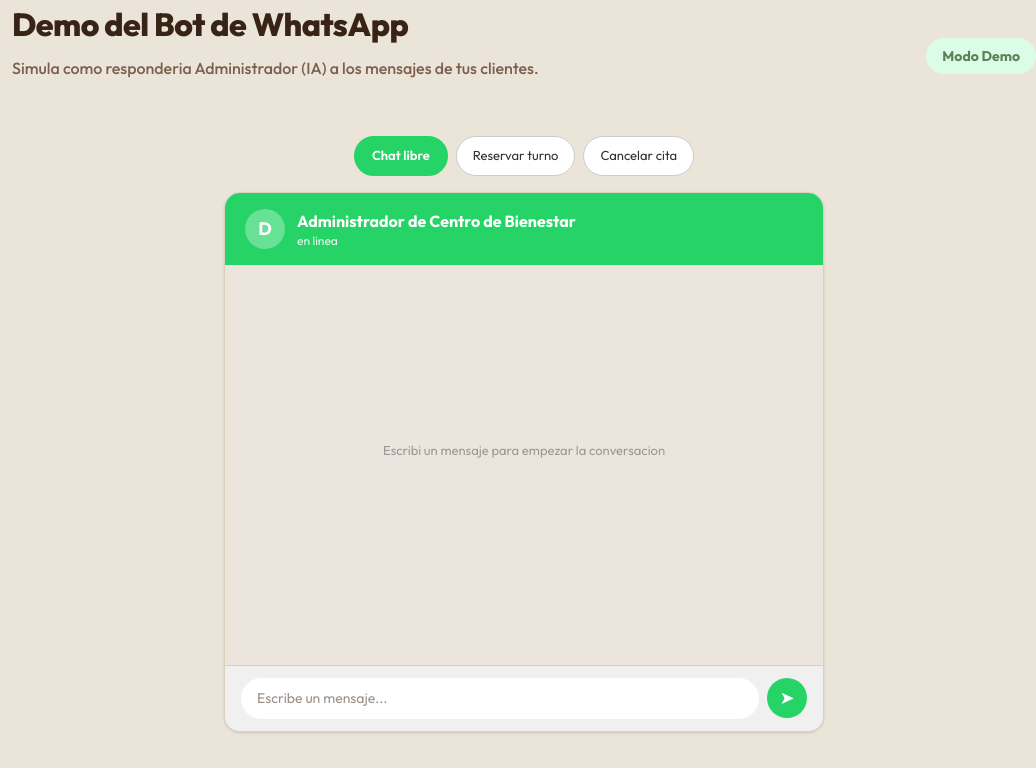
ChatDemo — escenarios de conversación › envía mensaje al presionar Enter
The width and height of the screenshot is (1036, 768).
Type "Quiero el viernes" into the field with placeholder "Escribe un mensaje...".
click(500, 698); type("Quiero el viernes")  # box [241,678,759,718]
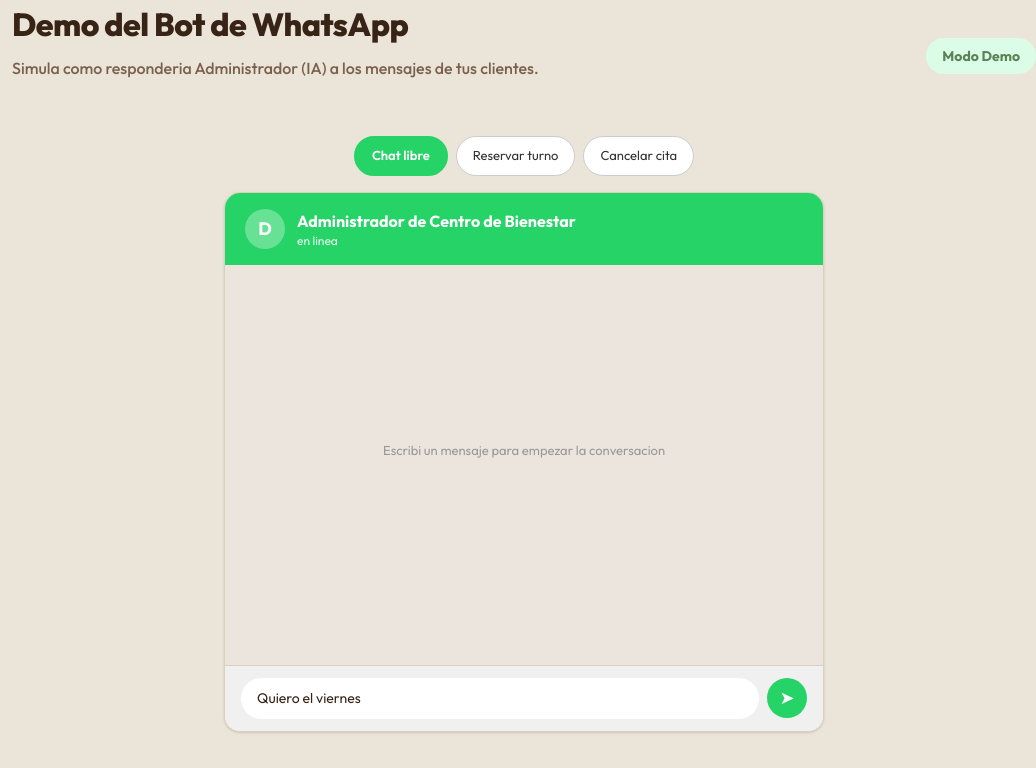
Press Enter in the field with placeholder "Escribe un mensaje...", box [241,678,759,718]
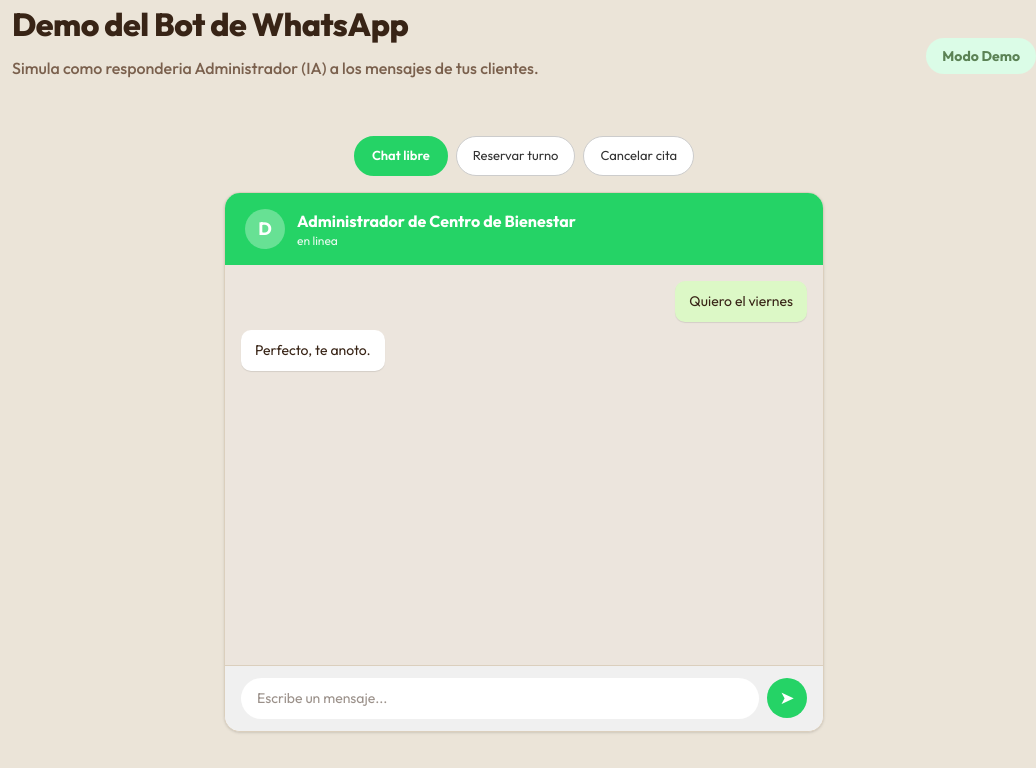
Expected: the text "Quiero el viernes" is shown, [675,280,807,322]
